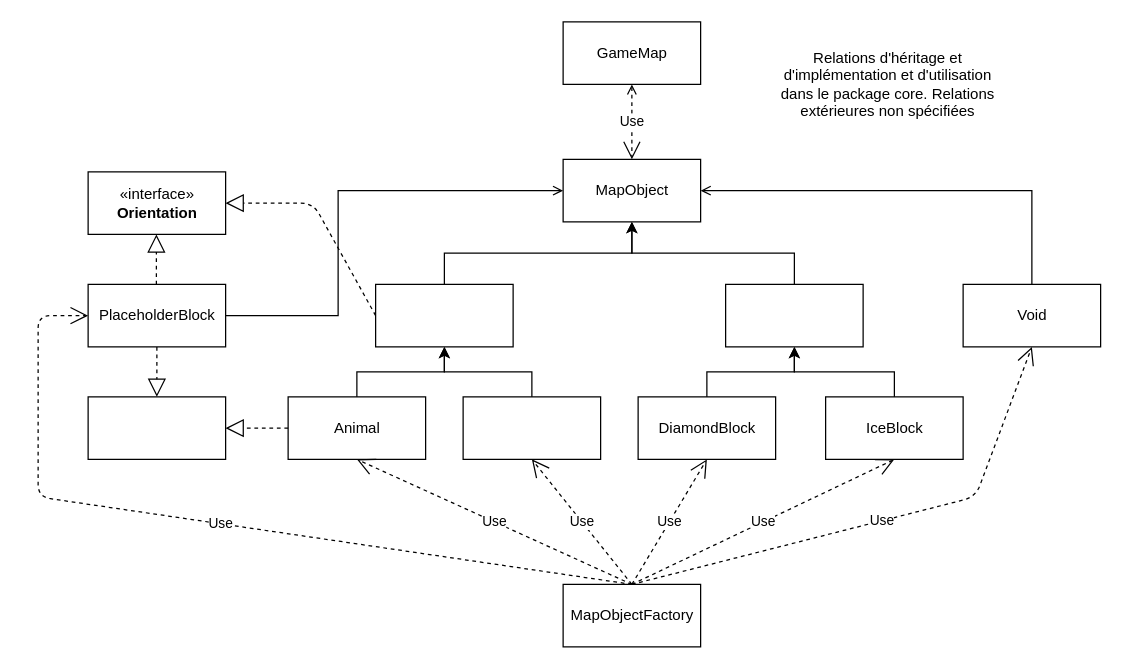
This 1123x669 diagram has some shape labels left out. Here are the shapes that lost their labels. From the top down, the box of each, then its label:
(374, 283, 513, 347): MapEntity
(724, 283, 863, 347): MapBlock
(87, 396, 226, 459): «interface» Variante
(462, 396, 601, 459): Penguin
